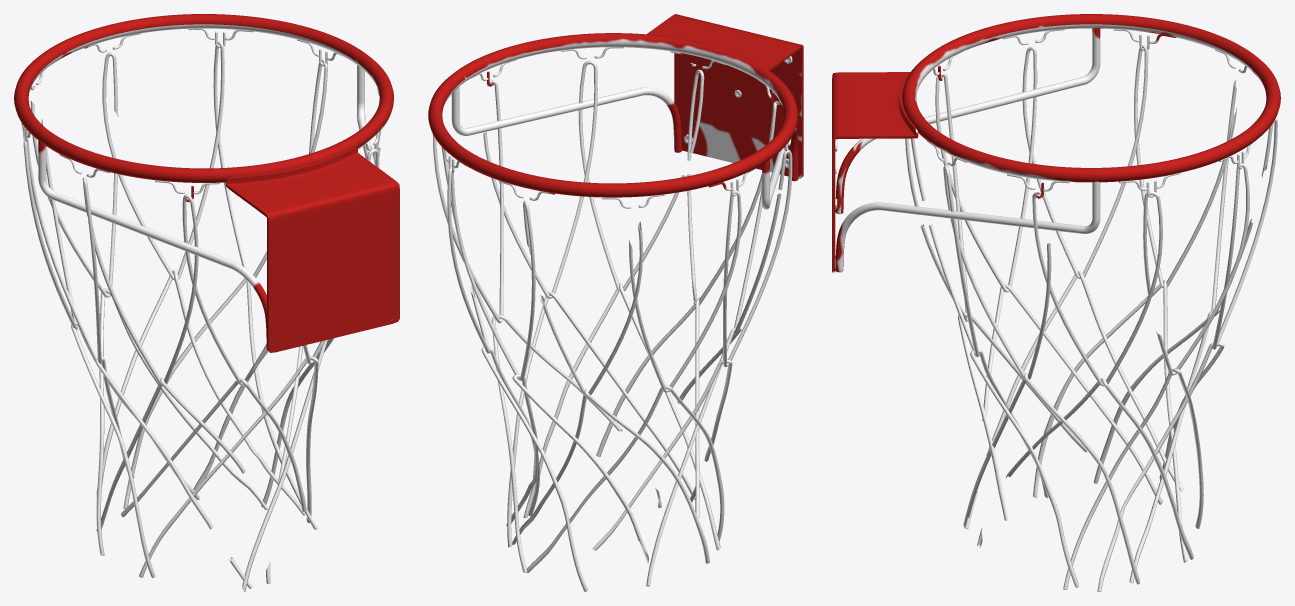
The picture shows the model from 3 angles, left to right: view 1: azimuth 30°, elevation 25°; view 2: azimuth 150°, elevation 25°; view 3: azimuth 270°, elevation 25°; orthographic projection. The views are drawn at different scales.
Parts seen in each view (by area): view 1: objMesh; view 2: objMesh; view 3: objMesh.
Part boxes in pixels (<box>): objMesh: <box>14,14,399,591</box>; objMesh: <box>428,14,803,591</box>; objMesh: <box>832,14,1280,591</box>.
Size of the model in its own units: 389 by 512 by 461.
3 materials, 3 textured.
